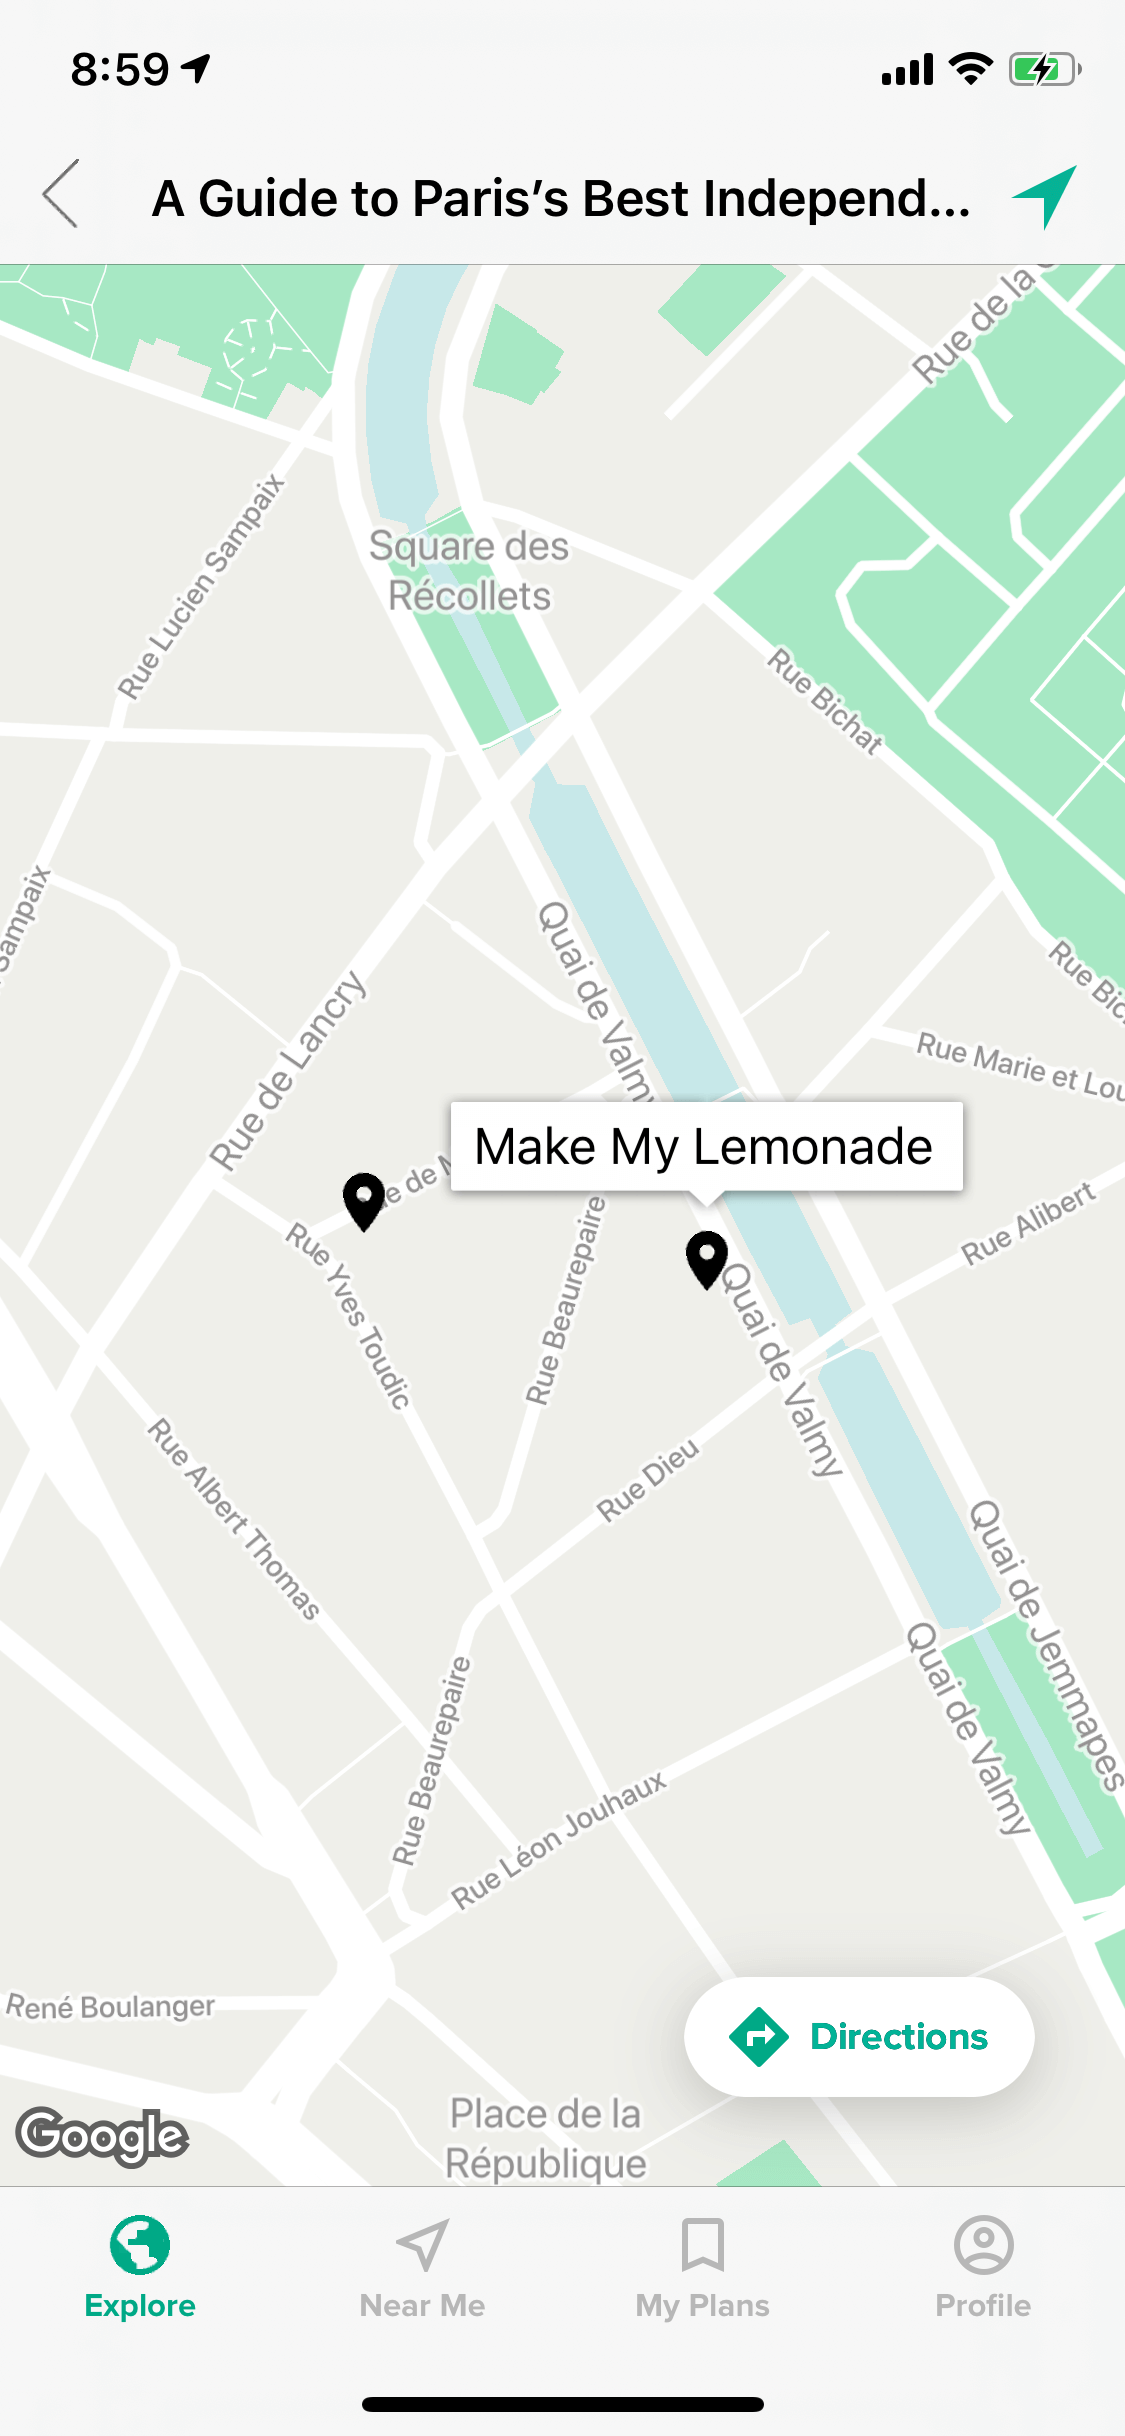Buttons: (977, 129, 1108, 252), (6, 129, 132, 252)
FAB (Floating Action Button): (670, 1951, 1050, 2118)
